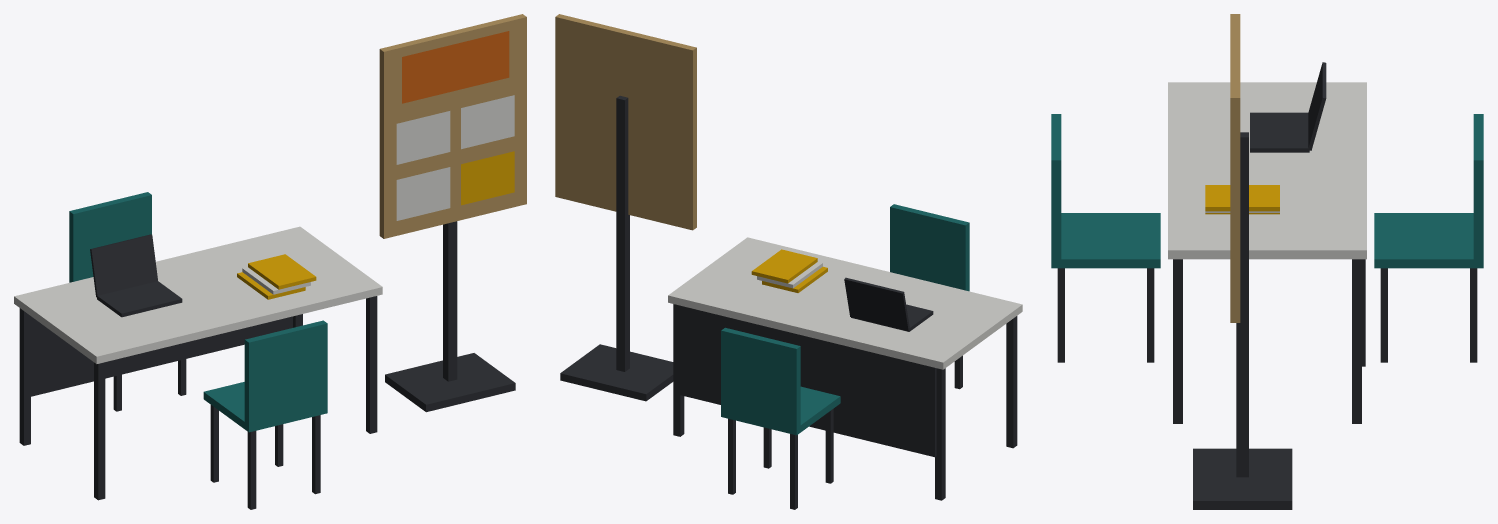
Rendered from prop_course-desk.f7cd1dac5f8e.glb.
3 renders of one model, left to right at view 1: azimuth 30°, elevation 25°; view 2: azimuth 150°, elevation 25°; view 3: azimuth 270°, elevation 25°, orthographic. The views are drawn at different scales.
Visible parts, largest first — view 1: body; view 2: body; view 3: body.
Boxes of the visible parts, x1,y1,x2,y2 form: body: (14, 14, 526, 509); body: (555, 14, 1022, 509); body: (1051, 14, 1483, 509).
Bounding box in the file's own units: 2.55 × 1.9 × 1.74.
